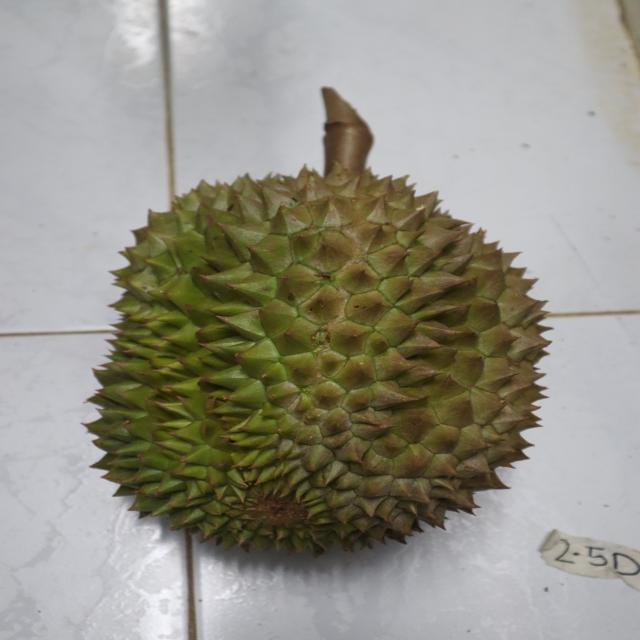mature: (90, 168, 552, 558)
